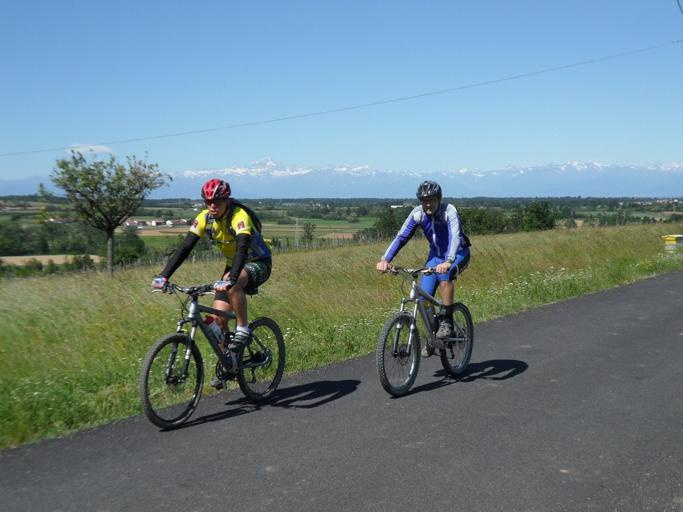non-vehicle: (138, 274, 286, 429), (373, 260, 474, 397)
